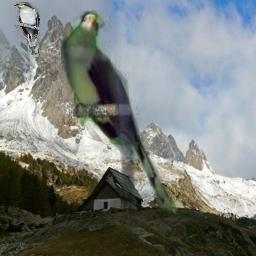Cuckoo: (61, 10, 180, 214), (14, 2, 40, 57)
